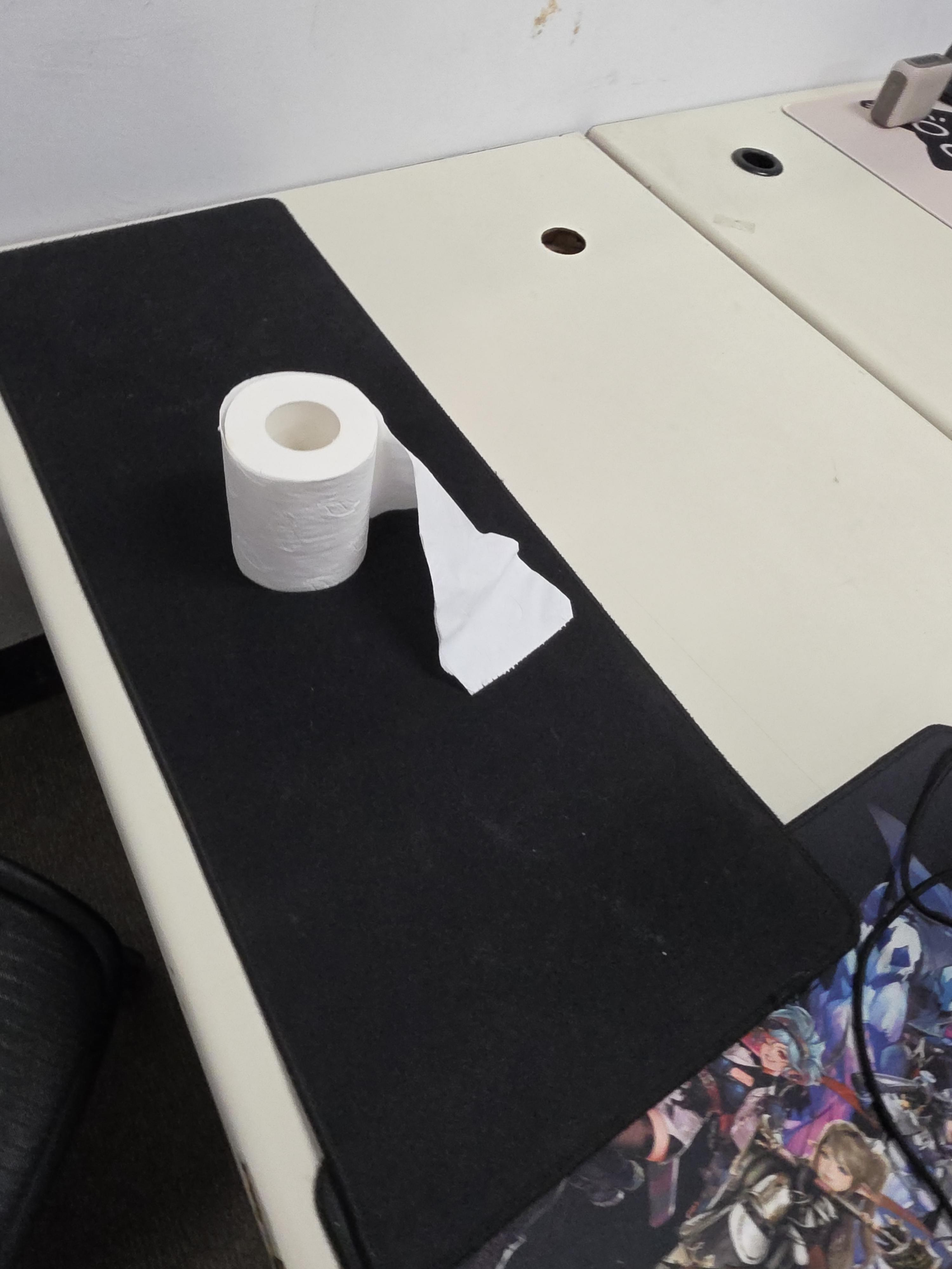tissue: (218, 371, 575, 697)
